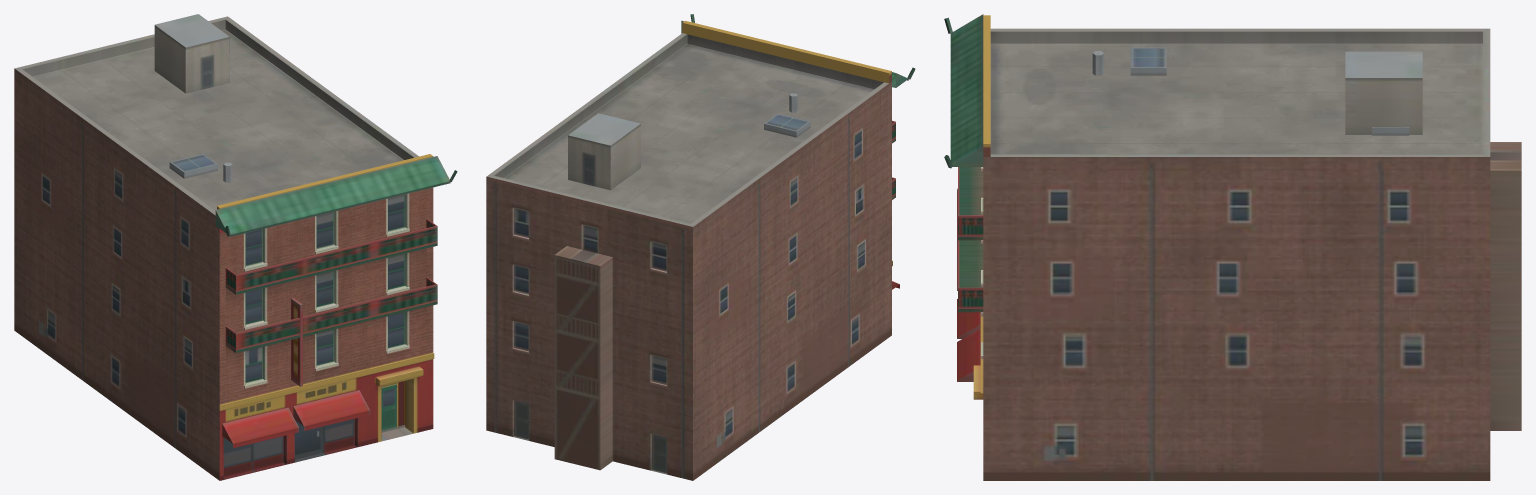
The model's file is sf_brick_a.glb.
The picture shows the model from 3 angles, left to right: view 1: azimuth 30°, elevation 25°; view 2: azimuth 150°, elevation 25°; view 3: azimuth 270°, elevation 25°; orthographic projection. The views are drawn at different scales.
Parts seen in each view (by area): view 1: sf_brick_a; view 2: sf_brick_a; view 3: sf_brick_a.
Part boxes in pixels (x1,y1,x2,y2): sf_brick_a: [14, 14, 457, 480]; sf_brick_a: [486, 14, 915, 480]; sf_brick_a: [944, 14, 1521, 480].
Bounding box in the file's own units: 13.72 × 16.85 × 23.92.
Materials: 1 (1 with a texture image).
